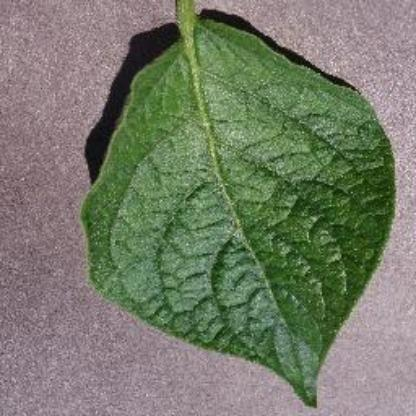Healthy-plant: (61, 7, 410, 395)
